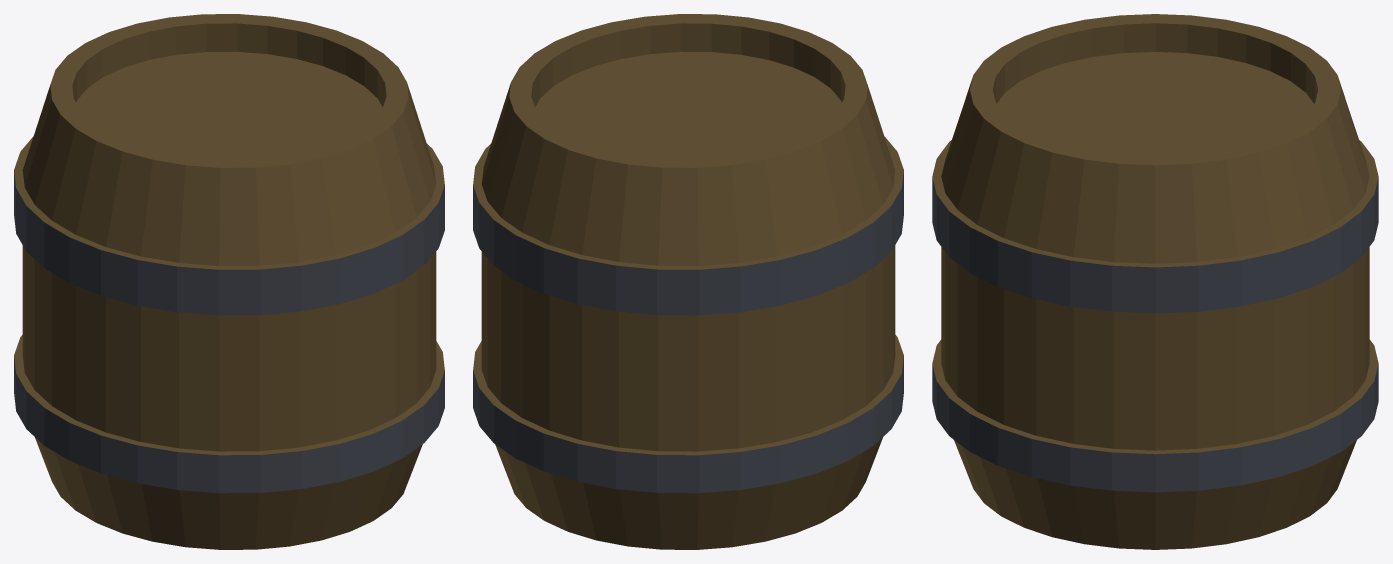
File: barrel2.glb
The picture shows the model from 3 angles, left to right: view 1: azimuth 30°, elevation 25°; view 2: azimuth 150°, elevation 25°; view 3: azimuth 270°, elevation 25°; orthographic projection.
Visible parts, largest first — view 1: Cylinder; view 2: Cylinder; view 3: Cylinder.
Boxes of the visible parts, x1,y1,x2,y2 form: Cylinder: [14, 14, 444, 549]; Cylinder: [473, 14, 903, 549]; Cylinder: [932, 14, 1378, 549].
Bounding box in the file's own units: 2.84 × 2.81 × 2.95.
